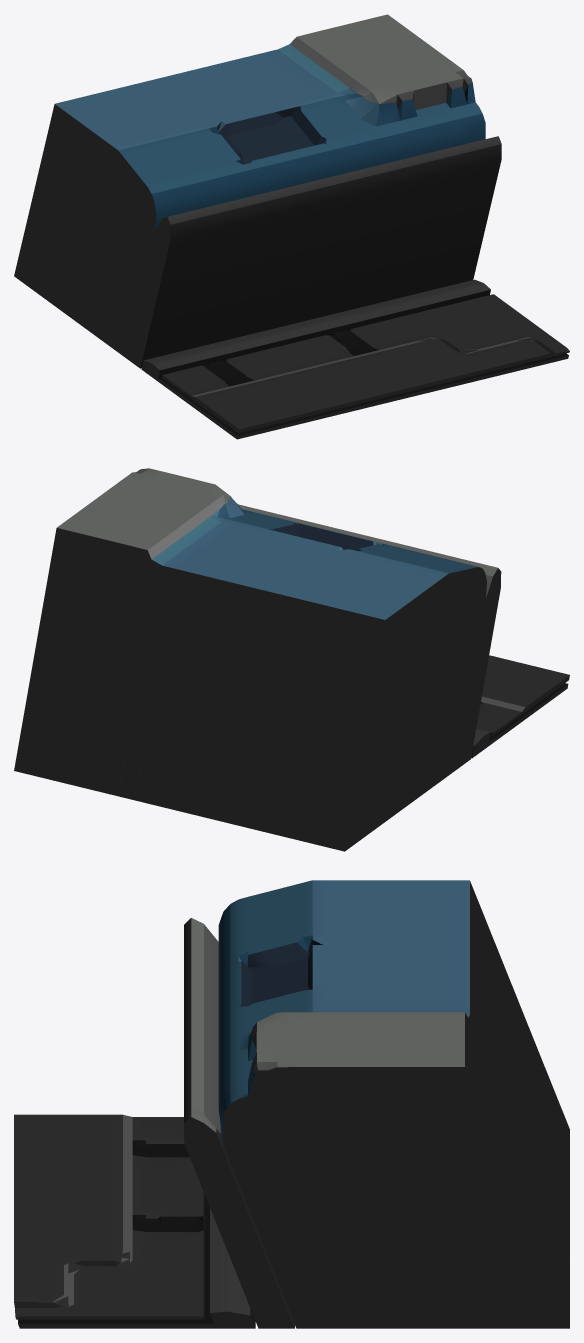
Rendered from fleet_walker_41.glb.
The picture shows the model from 3 angles, top to bottom: view 1: azimuth 30°, elevation 25°; view 2: azimuth 150°, elevation 25°; view 3: azimuth 270°, elevation 25°; orthographic projection. The views are drawn at different scales.
Parts seen in each view (by area): view 1: fleet_walker_41; view 2: fleet_walker_41; view 3: fleet_walker_41.
Part boxes in pixels (bbox=[...]): fleet_walker_41: bbox=[14, 14, 569, 439]; fleet_walker_41: bbox=[14, 468, 569, 851]; fleet_walker_41: bbox=[14, 880, 569, 1328].
Bounding box in the file's own units: 24 × 14.7 × 28.3.
